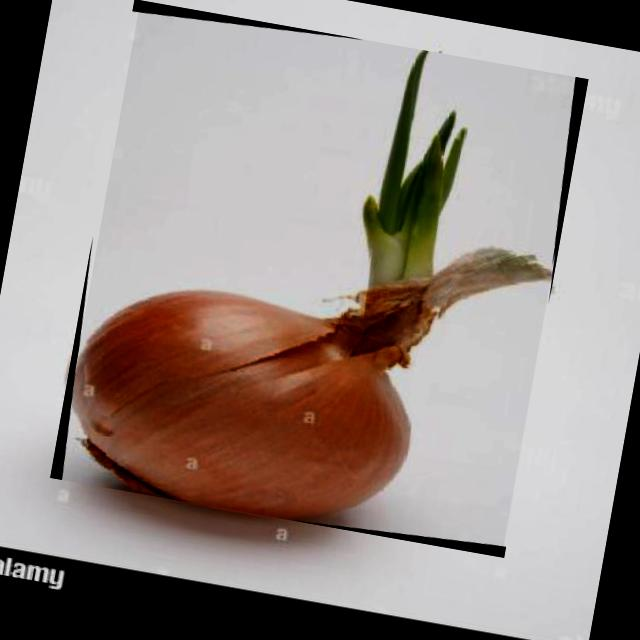sprouting: (72, 50, 551, 517)
